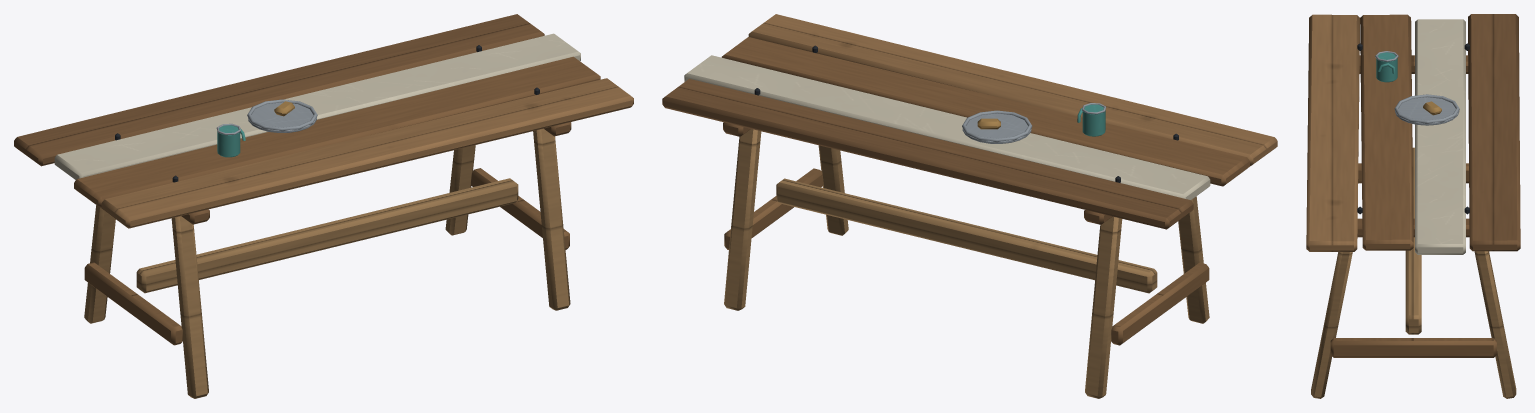
File: wooden_table.glb
3 views of the same model, side by side, from view 1: azimuth 30°, elevation 25°; view 2: azimuth 150°, elevation 25°; view 3: azimuth 270°, elevation 25° (orthographic). The views are drawn at different scales.
Parts seen in each view (by area): view 1: wooden_table; view 2: wooden_table; view 3: wooden_table.
Part boxes in pixels (x1=…): wooden_table: x1=14, y1=14, x2=633, y2=398; wooden_table: x1=662, y1=14, x2=1277, y2=398; wooden_table: x1=1306, y1=14, x2=1520, y2=398.
Bounding box in the file's own units: 2.05 × 0.8563 × 0.7983.
9 materials, 9 textured.
